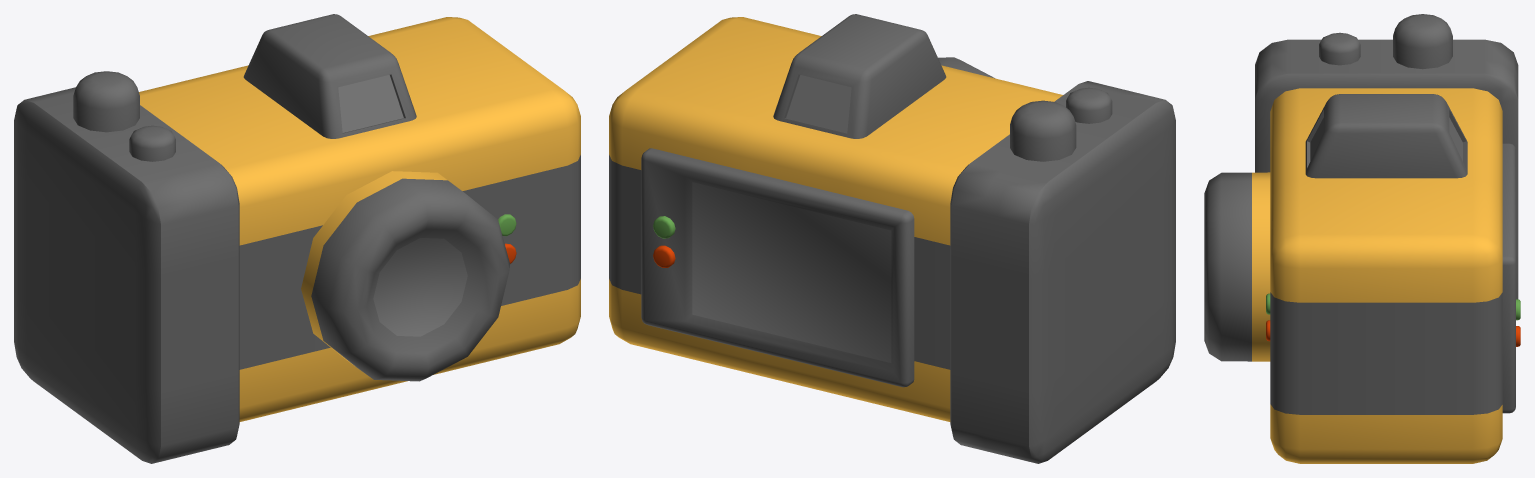
File: Camera_2.fbx
3 renders of one model, left to right at view 1: azimuth 30°, elevation 25°; view 2: azimuth 150°, elevation 25°; view 3: azimuth 270°, elevation 25°, orthographic. The views are drawn at different scales.
Parts seen in each view (by area): view 1: Camera_2; view 2: Camera_2; view 3: Camera_2.
Boxes of the visible parts, bbox=[...] form: Camera_2: bbox=[14, 14, 580, 463]; Camera_2: bbox=[609, 14, 1175, 463]; Camera_2: bbox=[1204, 14, 1520, 463].
Bounding box in the file's own units: 0.2765 × 0.1894 × 0.1881.
